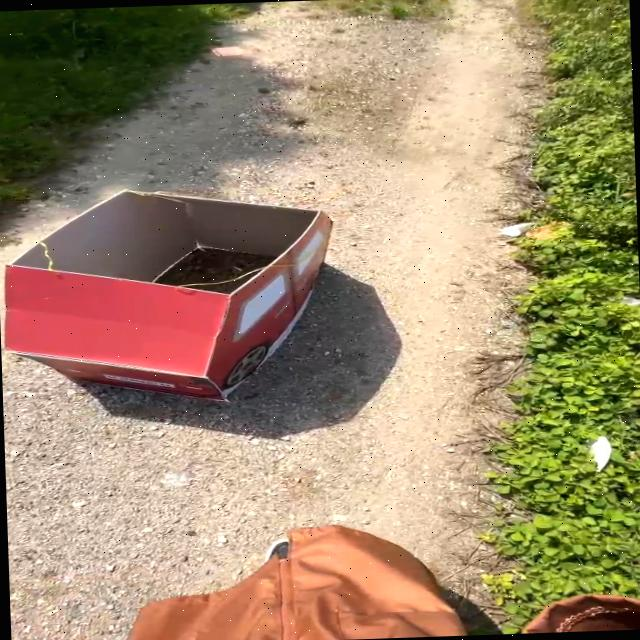red_car: (0, 168, 378, 431)
